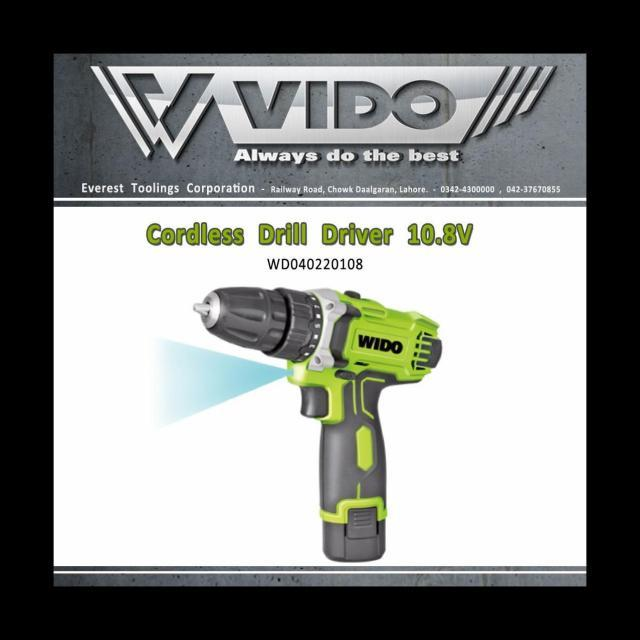drill: (192, 286, 443, 564)
